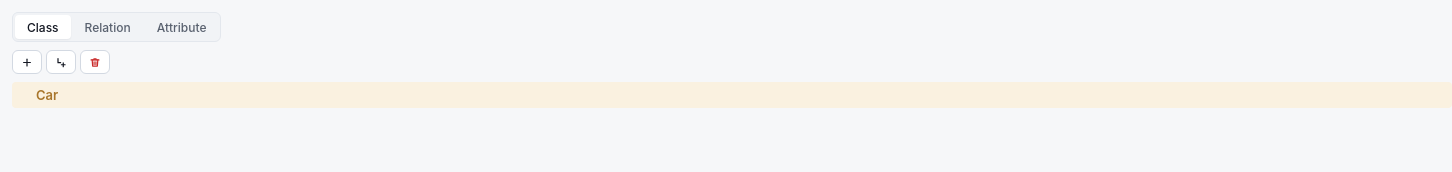
Test case: HierarchyTree — attribute pool › lists properties alphabetically with their range and usage count
Click the tab "Attribute" at [182, 27], box [145, 15, 218, 39]
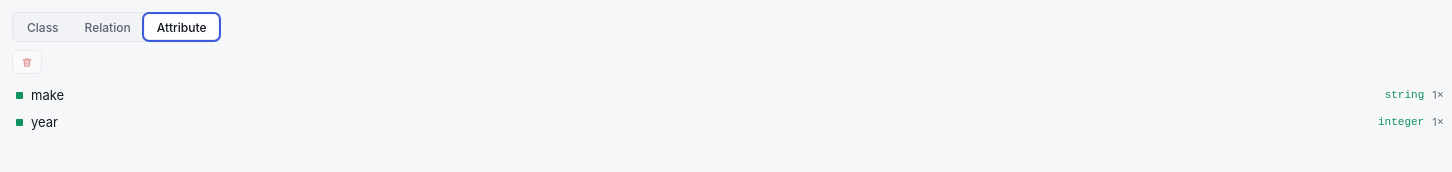
Expected: the button "year integer 1×" is shown, [12, 109, 1451, 135]
Expected: the button "make string 1×" is shown, [12, 82, 1451, 108]
